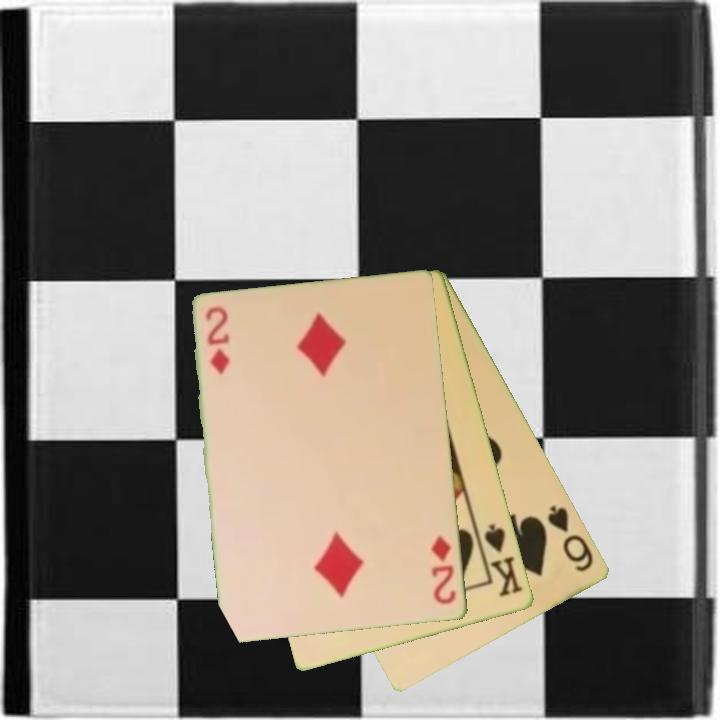2d: (428, 532, 459, 608), (203, 303, 232, 378)
6s: (544, 501, 597, 575)
Ks: (475, 520, 527, 600)
